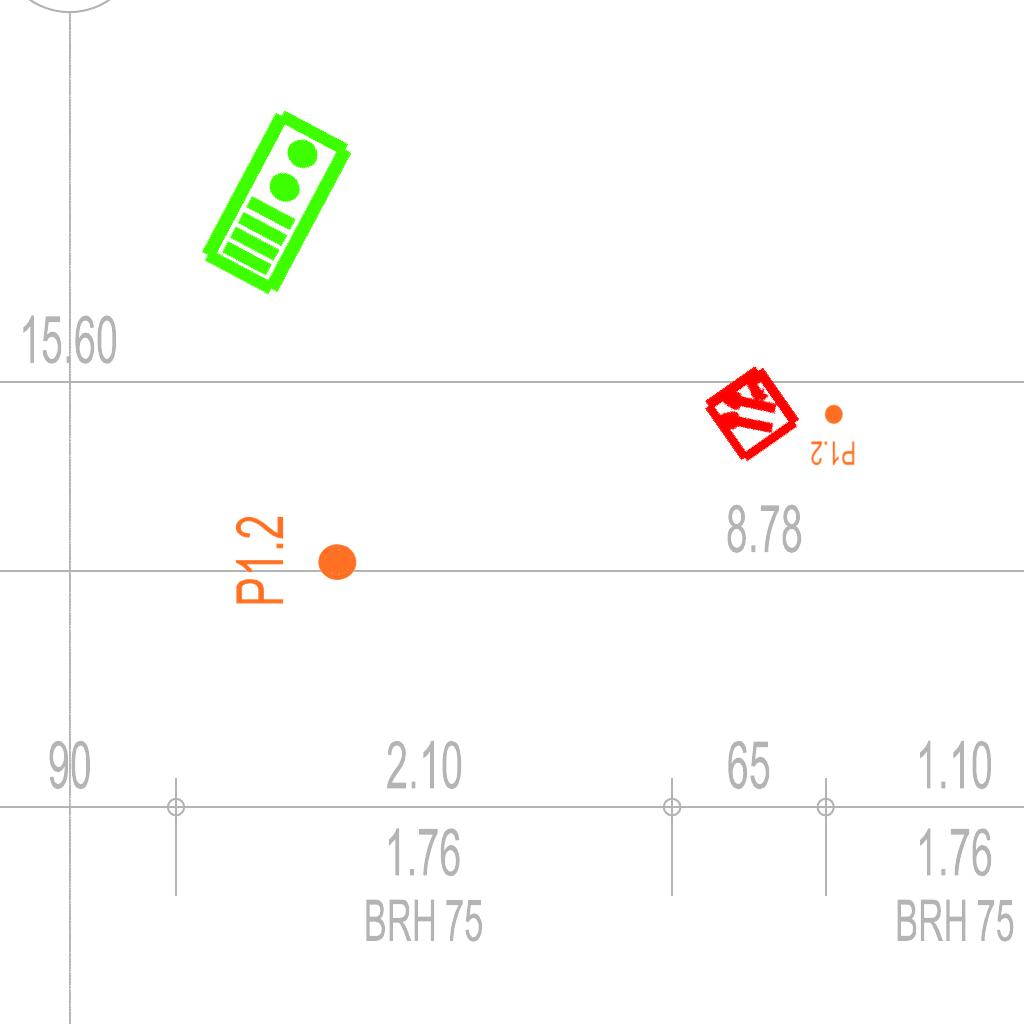Downlight_LED_Einbauleuchten_Flur: (232, 514, 360, 607), (810, 403, 856, 467)
Gegensprechanlage_mit_Video: (192, 101, 359, 301)
OT_Multisensormelder_(Kombination_RMO_WMD): (671, 332, 830, 491)
